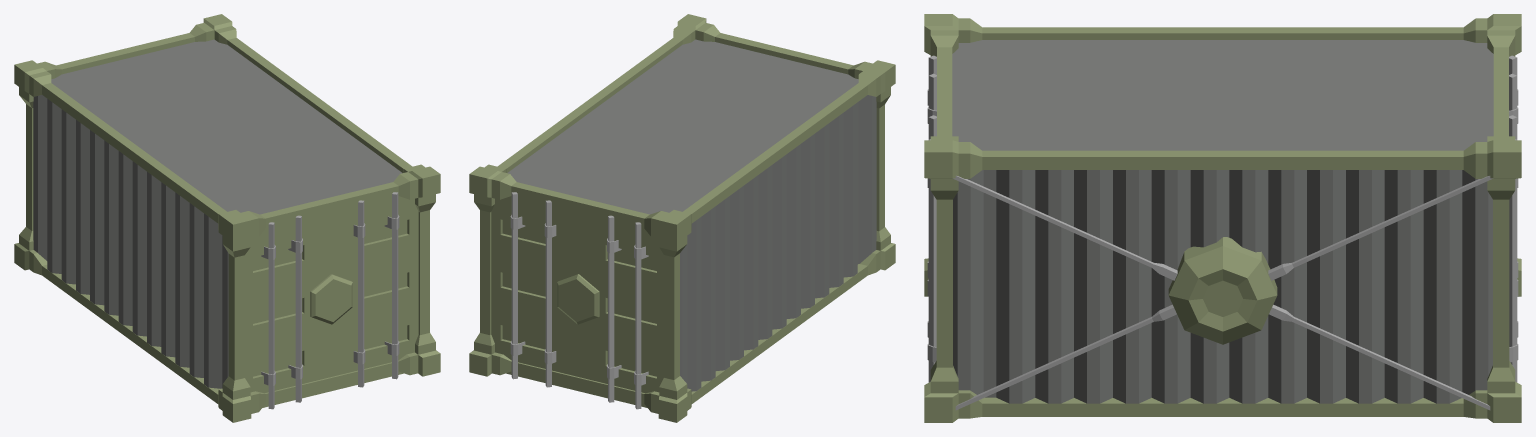
The model's file is container.fbx.
3 renders of one model, left to right at view 1: azimuth 30°, elevation 25°; view 2: azimuth 150°, elevation 25°; view 3: azimuth 270°, elevation 25°, orthographic. The views are drawn at different scales.
Parts seen in each view (by area): view 1: Plane.001; view 2: Plane.001; view 3: Plane.001.
Part boxes in pixels (box(x1,y1,x2,y2)): Plane.001: box(14, 14, 440, 422); Plane.001: box(469, 14, 895, 422); Plane.001: box(924, 14, 1521, 422).
Size of the model in its own units: 492 by 429 by 859.
